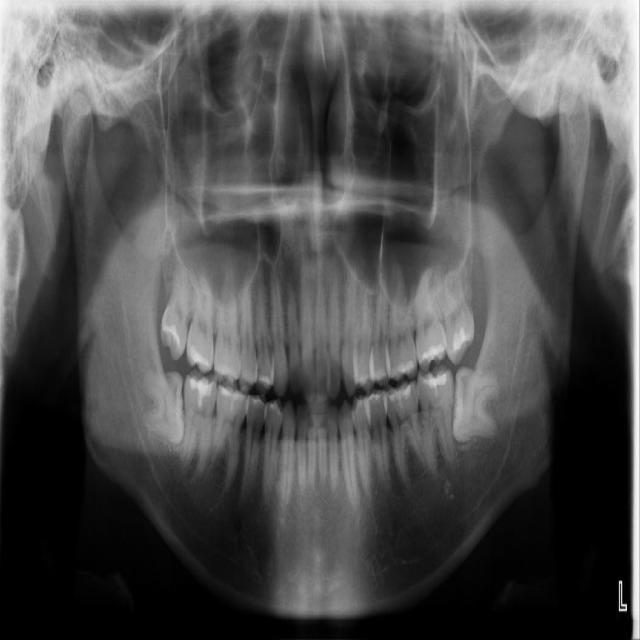3M ESPE Implant: (158, 245, 196, 361)
52: (410, 360, 460, 414), (379, 375, 427, 431), (211, 371, 253, 431), (178, 366, 221, 420), (411, 317, 452, 373), (155, 304, 191, 361), (182, 320, 218, 375), (443, 302, 474, 364), (383, 334, 421, 383), (361, 386, 393, 432)
73: (614, 579, 624, 597)
BioHorizons Implant: (410, 265, 450, 371)
BioLife Implant: (442, 267, 475, 364)
Biomet 3i Implant: (448, 366, 503, 444)
Blue Sky Bio Implant: (414, 363, 464, 480)
Caries: (185, 267, 219, 374)
Implant: (178, 366, 218, 481)
Keystone Dental Implant: (141, 369, 186, 444)
